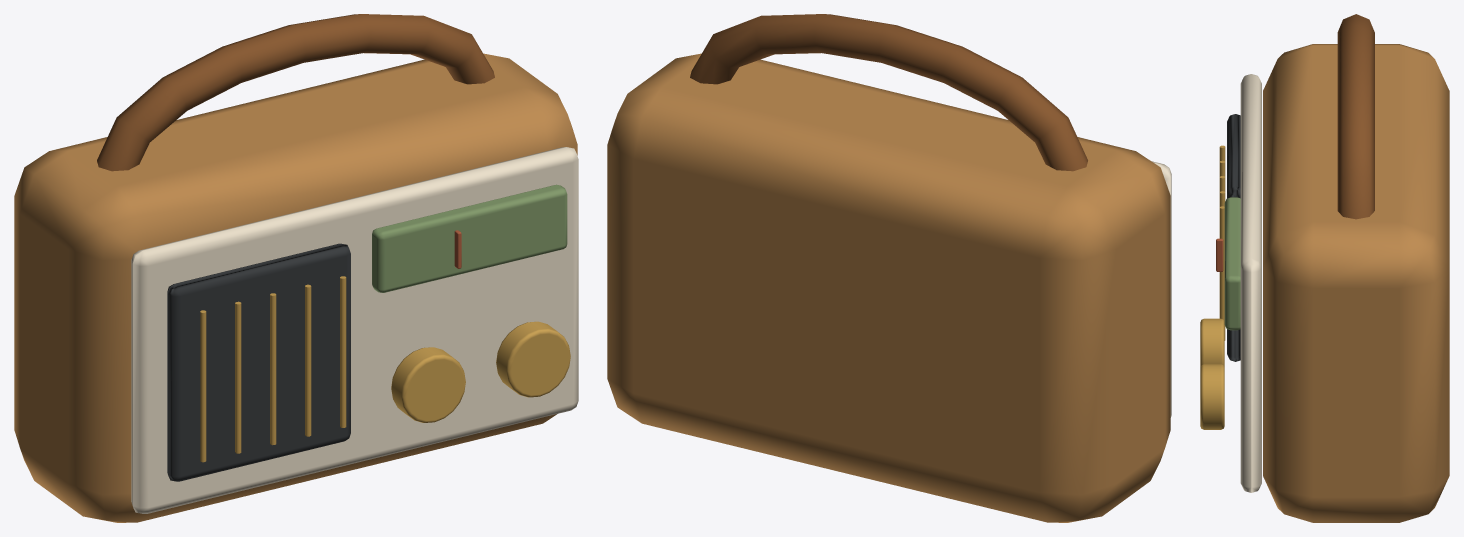
Rendered from PR_Radio.glb.
3 views of the same model, side by side, from view 1: azimuth 30°, elevation 25°; view 2: azimuth 150°, elevation 25°; view 3: azimuth 270°, elevation 25° (orthographic). The views are drawn at different scales.
Visible parts, largest first — view 1: PR_Radio_LOD0; view 2: PR_Radio_LOD0; view 3: PR_Radio_LOD0.
Part boxes in pixels (x1,y1,x2,y2): PR_Radio_LOD0: (14,14,578,522); PR_Radio_LOD0: (607,14,1171,522); PR_Radio_LOD0: (1200,14,1449,522).
Size of the model in its own units: 0.36 by 0.2943 by 0.1735.
Materials: 1 (1 with a texture image).
